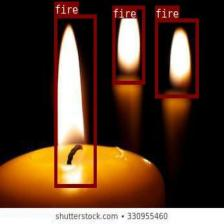fire: (54, 14, 96, 187), (154, 17, 198, 97), (112, 5, 144, 84)
